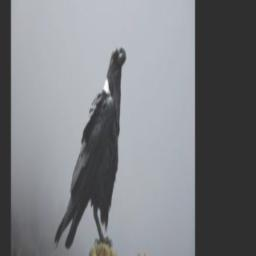Crow: (52, 36, 127, 256)
